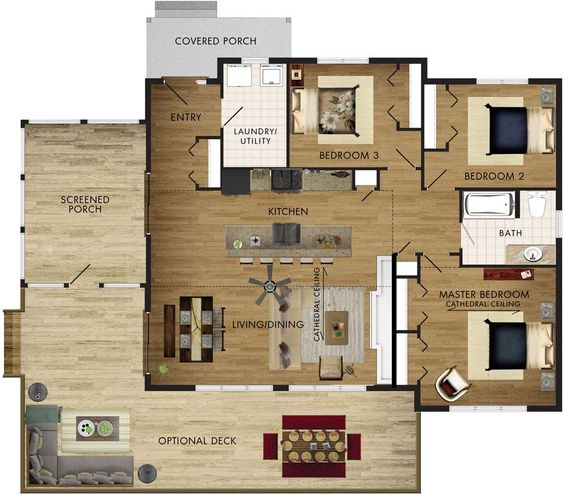wall: (556, 237, 562, 409), (557, 77, 562, 208), (145, 78, 151, 174), (392, 255, 396, 389), (146, 235, 151, 313), (421, 59, 424, 189), (286, 58, 289, 168), (144, 384, 194, 390), (460, 264, 560, 267), (287, 166, 387, 169), (423, 78, 476, 83), (367, 385, 419, 390), (270, 57, 317, 62), (526, 405, 563, 411), (456, 187, 562, 189), (414, 406, 447, 410), (414, 385, 419, 410), (220, 129, 223, 167), (219, 58, 240, 63), (218, 58, 222, 83), (395, 330, 418, 334), (417, 253, 420, 283), (446, 251, 463, 256), (393, 275, 420, 278), (196, 136, 222, 139), (396, 127, 422, 130), (422, 148, 446, 151), (377, 167, 380, 189), (145, 376, 150, 389), (352, 169, 355, 190), (196, 188, 220, 190)
